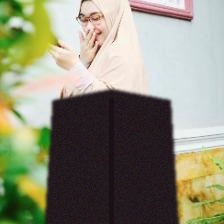Cadar_Niqab: (45, 0, 178, 224)
